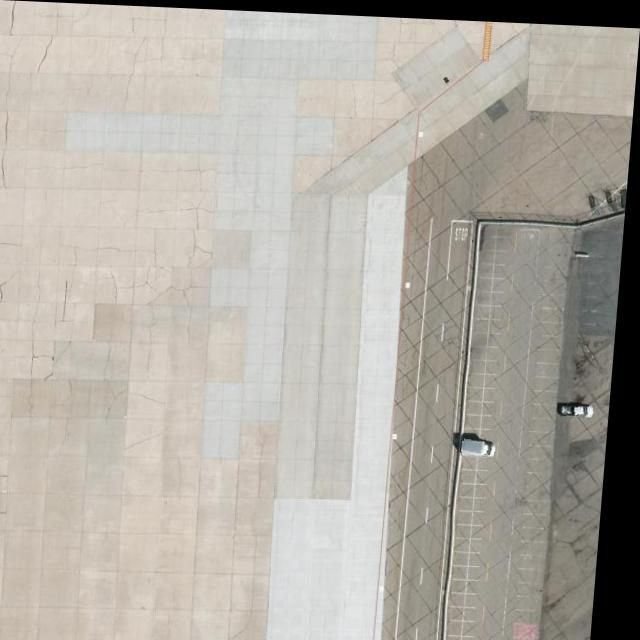vehicle: (469, 435, 504, 454), (566, 400, 602, 413)
